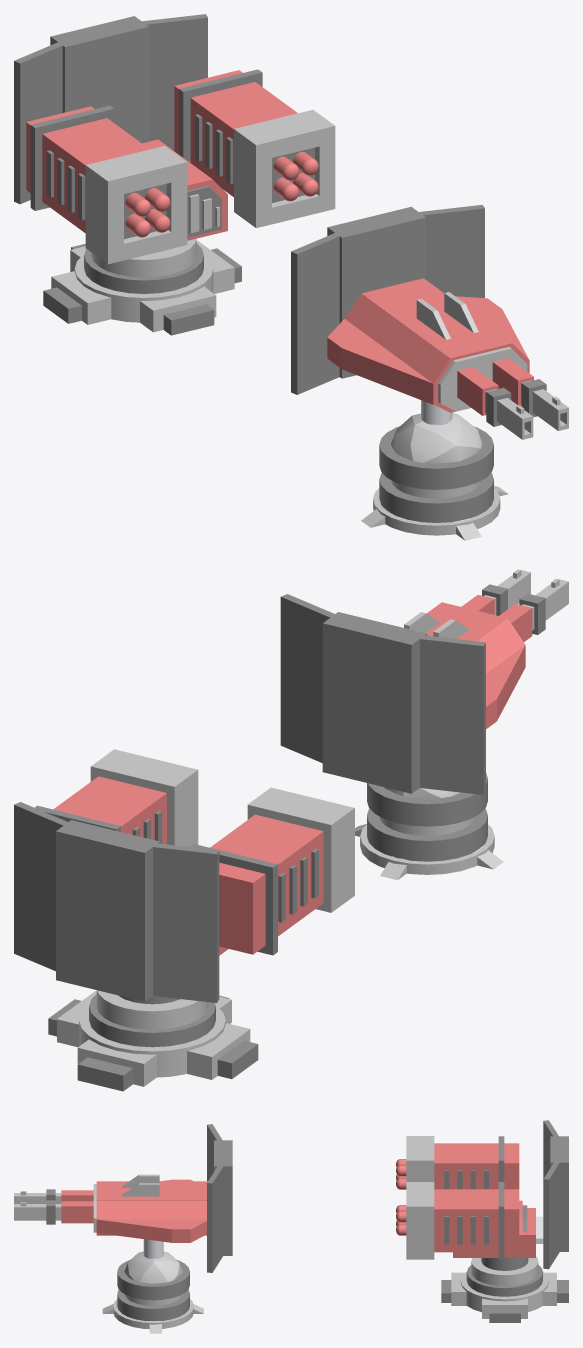
File: Sub - Torret Fire Set 3.fbx
3 renders of one model, top to bottom at view 1: azimuth 30°, elevation 25°; view 2: azimuth 150°, elevation 25°; view 3: azimuth 270°, elevation 25°, orthographic. The views are drawn at different scales.
Visible parts, largest first — view 1: mergedBlocks1.150, mergedBlocks4.192, mergedBlocks4.113, mergedBlocks1.267; view 2: mergedBlocks1.150, mergedBlocks4.192, mergedBlocks1.267, mergedBlocks4.113; view 3: mergedBlocks1.150, mergedBlocks4.192, mergedBlocks1.267, mergedBlocks4.113.
Part boxes in pixels (box(x1,y1,x2,y2)): mergedBlocks1.150: box(14, 14, 335, 264); mergedBlocks4.192: box(291, 205, 568, 439); mergedBlocks4.113: box(361, 400, 508, 540); mergedBlocks1.267: box(43, 238, 241, 335); mergedBlocks1.150: box(14, 749, 354, 1002); mergedBlocks4.192: box(280, 569, 568, 794); mergedBlocks1.267: box(48, 990, 258, 1091); mergedBlocks4.113: box(355, 773, 503, 880); mergedBlocks1.150: box(396, 1120, 568, 1269); mergedBlocks4.192: box(14, 1124, 232, 1272); mergedBlocks1.267: box(441, 1256, 568, 1322); mergedBlocks4.113: box(102, 1239, 203, 1333).
Size of the model in its own units: 408 by 424 by 1355.
